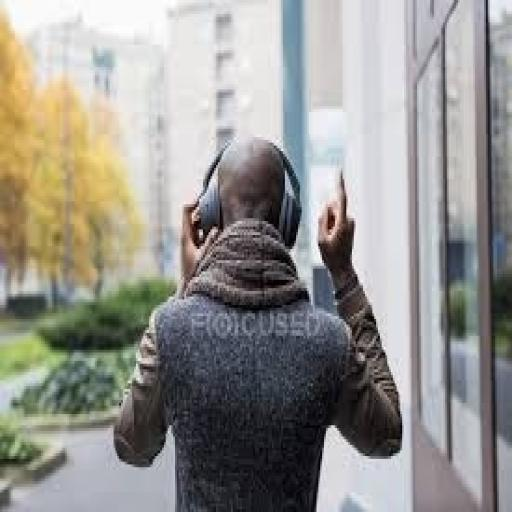listening_to_music: (110, 132, 404, 509), (190, 131, 303, 252)
